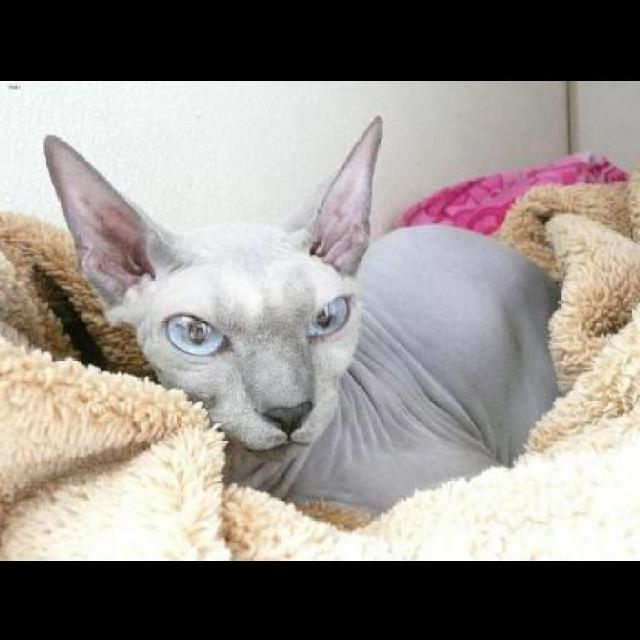unauthorized: (42, 112, 563, 531)
